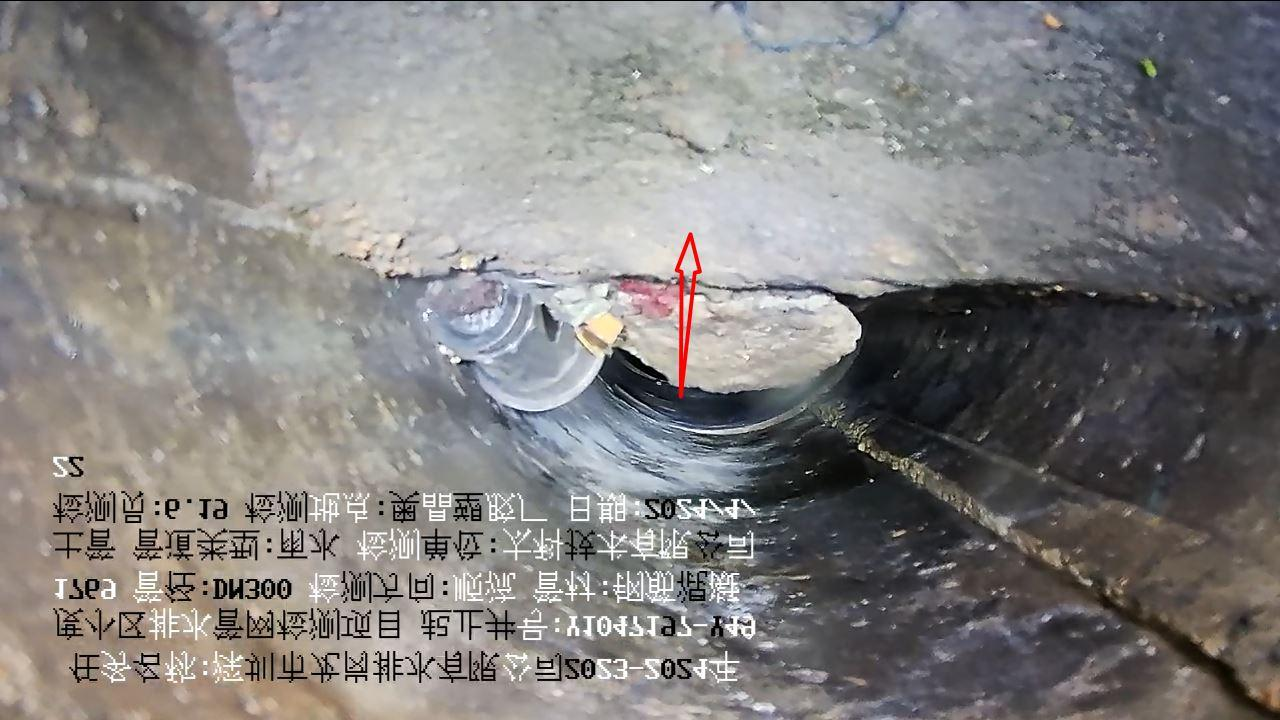CJ: (190, 5, 1279, 411)
